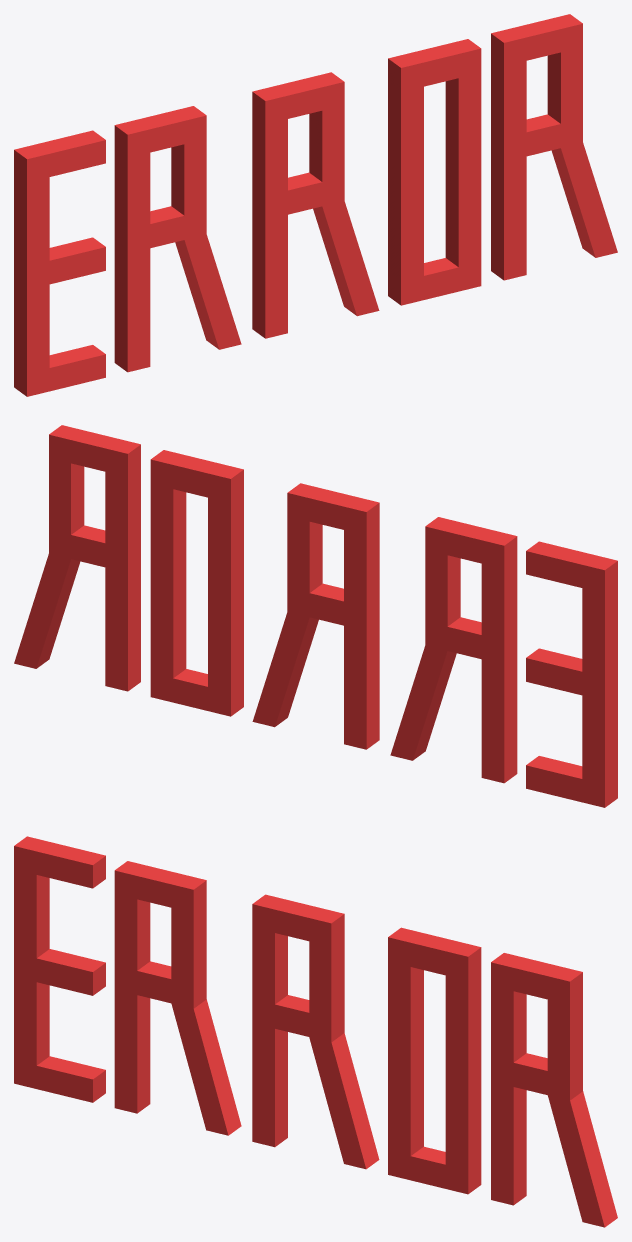
File: ERROR.fbx
The picture shows the model from 3 angles, top to bottom: view 1: azimuth 30°, elevation 25°; view 2: azimuth 150°, elevation 25°; view 3: azimuth 330°, elevation 25°; orthographic projection.
Parts seen in each view (by area): view 1: Error1; view 2: Error1; view 3: Error1.
Boxes of the visible parts, left/top/right/bottom form: Error1: left=14, top=14, right=617, bottom=396; Error1: left=14, top=425, right=617, bottom=807; Error1: left=14, top=836, right=617, bottom=1227.
Size of the model in its own units: 26.02 by 10 by 1.
